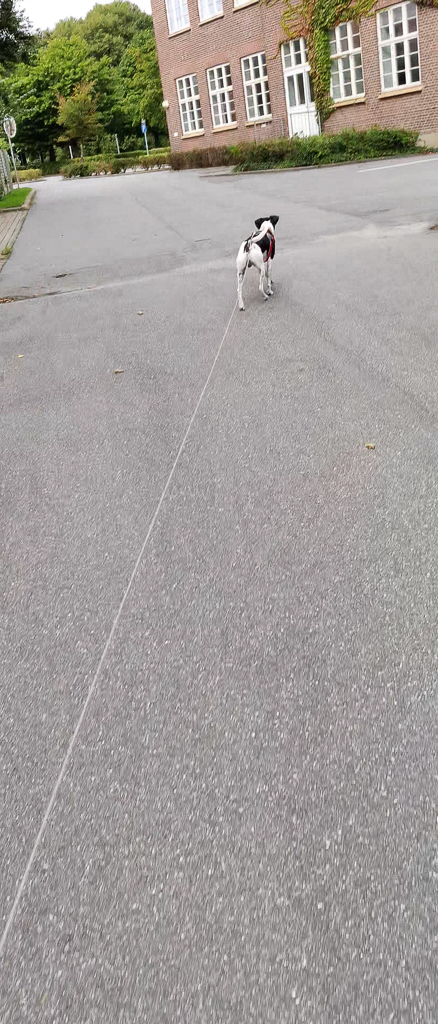Dog: (230, 210, 296, 319)
